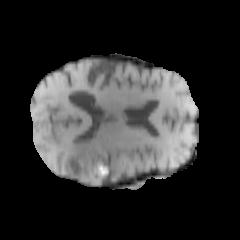glioma: (56, 136, 136, 186)
